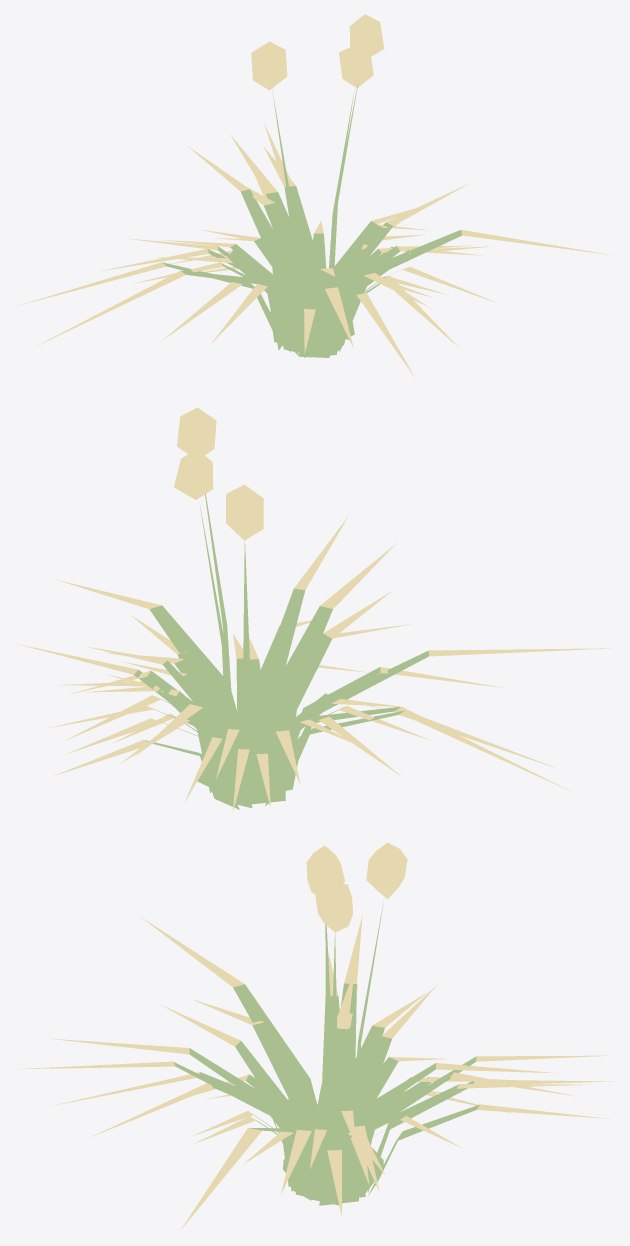
Rendered from Blender_Bunch_2.glb.
3 renders of one model, top to bottom at view 1: azimuth 30°, elevation 25°; view 2: azimuth 150°, elevation 25°; view 3: azimuth 270°, elevation 25°, orthographic. The views are drawn at different scales.
Visible parts, largest first — view 1: Blender_Bunch_2; view 2: Blender_Bunch_2; view 3: Blender_Bunch_2.
Part boxes in pixels (x1,y1,x2,y2): Blender_Bunch_2: [19, 14, 612, 376]; Blender_Bunch_2: [17, 407, 611, 812]; Blender_Bunch_2: [16, 842, 613, 1230].
Size of the model in its own units: 1.43 by 0.8354 by 1.23.
